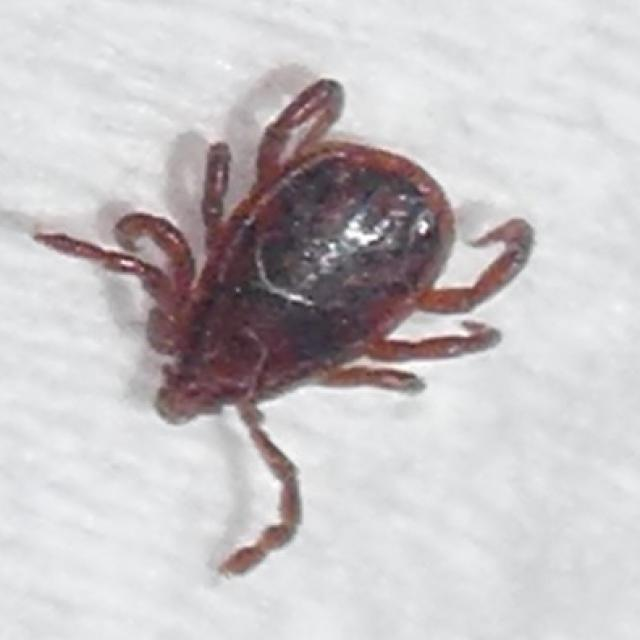Rhipicephalus Sanguineus-M: (31, 76, 535, 578)
